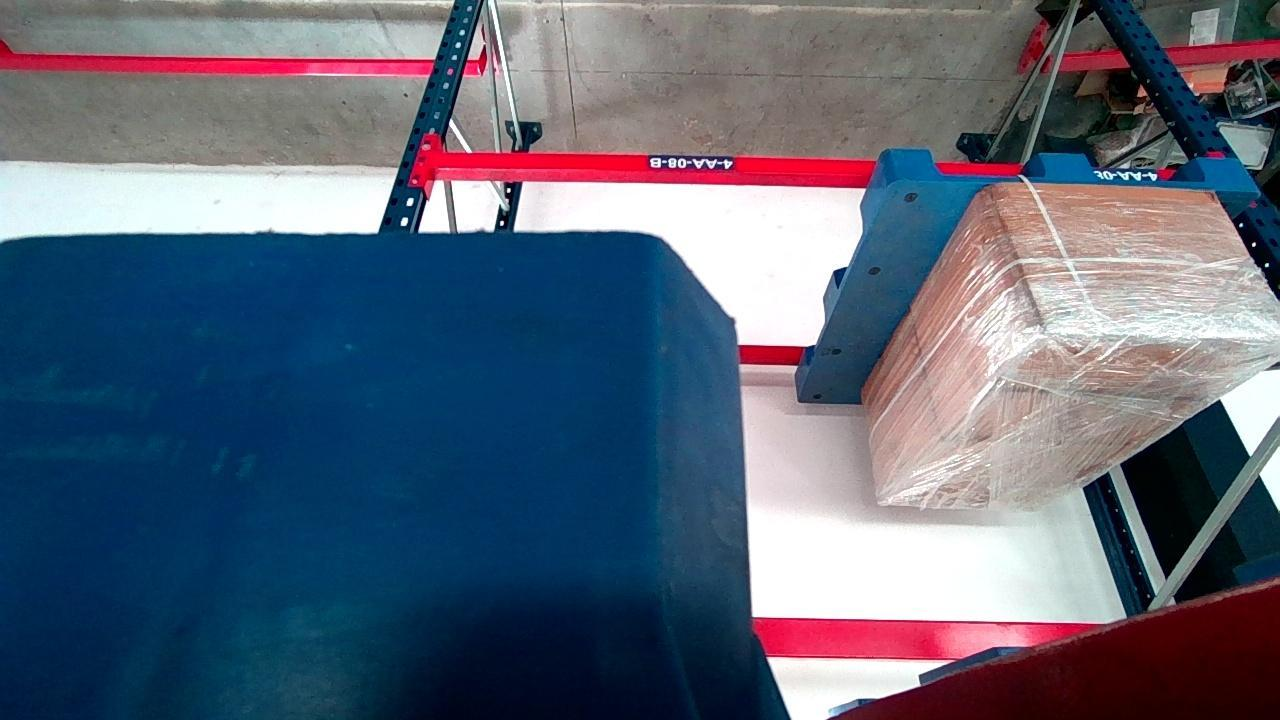h_rack: (403, 533, 853, 569), (188, 60, 530, 103)
small_pallet: (22, 529, 393, 570)
